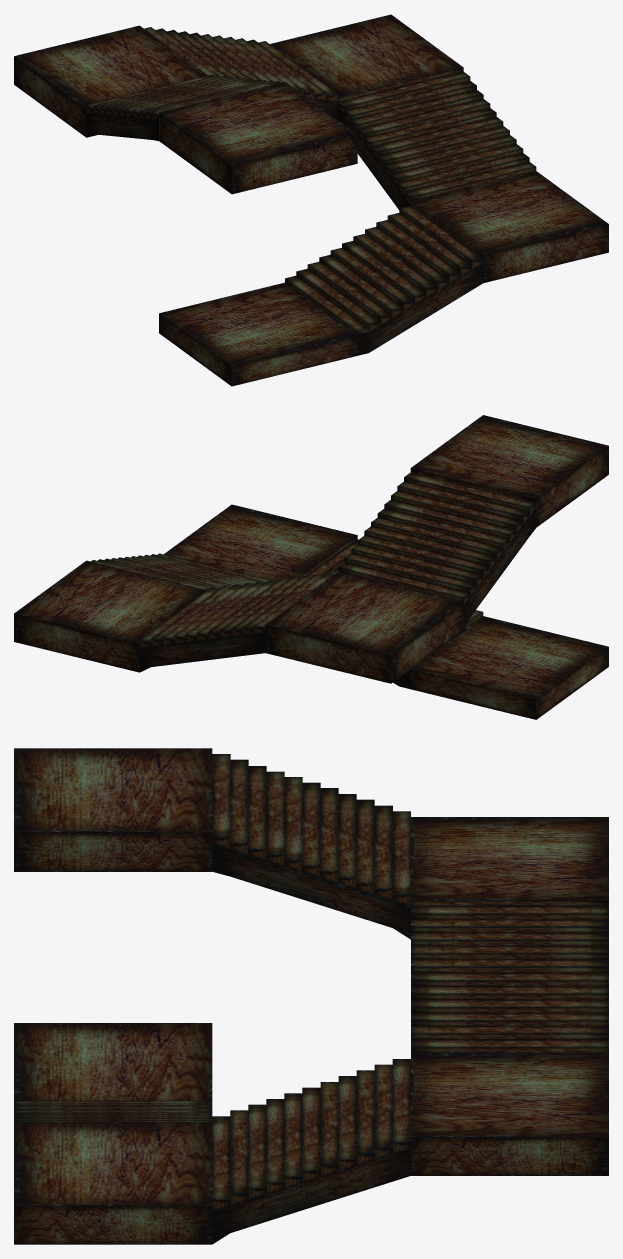
File: Stairway V3.fbx
3 views of the same model, one above another, from view 1: azimuth 30°, elevation 25°; view 2: azimuth 150°, elevation 25°; view 3: azimuth 270°, elevation 25° (orthographic). The views are drawn at different scales.
Visible parts, largest first — view 1: Stairs 3, Stairs 3 - End; view 2: Stairs 3, Stairs 3 - End; view 3: Stairs 3, Stairs 3 - End.
Part boxes in pixels (x1,y1,x2,y2): Stairs 3: (14,14,608,386); Stairs 3 - End: (159,81,357,194); Stairs 3: (14,472,608,719); Stairs 3 - End: (410,415,608,527); Stairs 3: (14,754,608,1244); Stairs 3 - End: (14,748,212,871).
Size of the model in its own units: 9.82 by 9.82 by 5.5.
